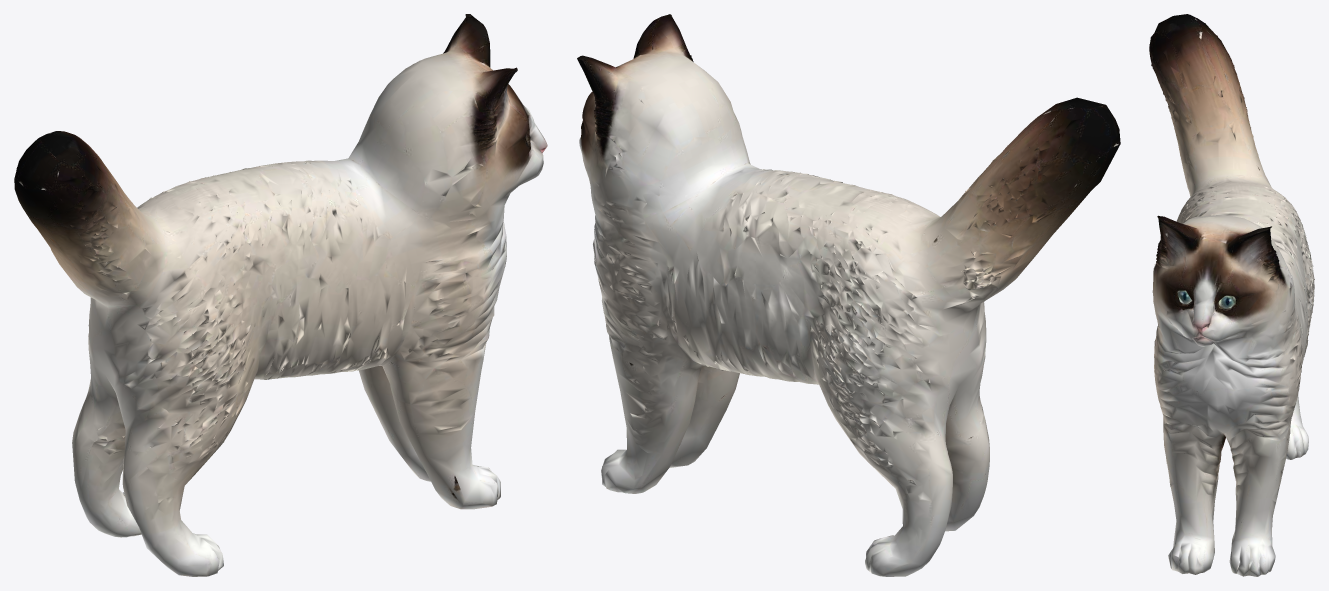
The model's file is BENBUTTON.glb.
The picture shows the model from 3 angles, left to right: view 1: azimuth 30°, elevation 25°; view 2: azimuth 150°, elevation 25°; view 3: azimuth 270°, elevation 25°; orthographic projection. The views are drawn at different scales.
Parts seen in each view (by area): view 1: fit; view 2: fit; view 3: fit.
Boxes of the visible parts, x1,y1,x2,y2 form: fit: [14, 14, 547, 576]; fit: [577, 14, 1120, 576]; fit: [1149, 14, 1314, 576].
Bounding box in the file's own units: 1.19 × 0.9935 × 0.3915.
Materials: 1 (1 with a texture image).
